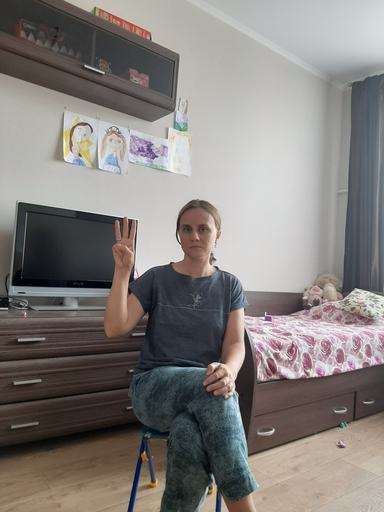three: (111, 216, 138, 271)
